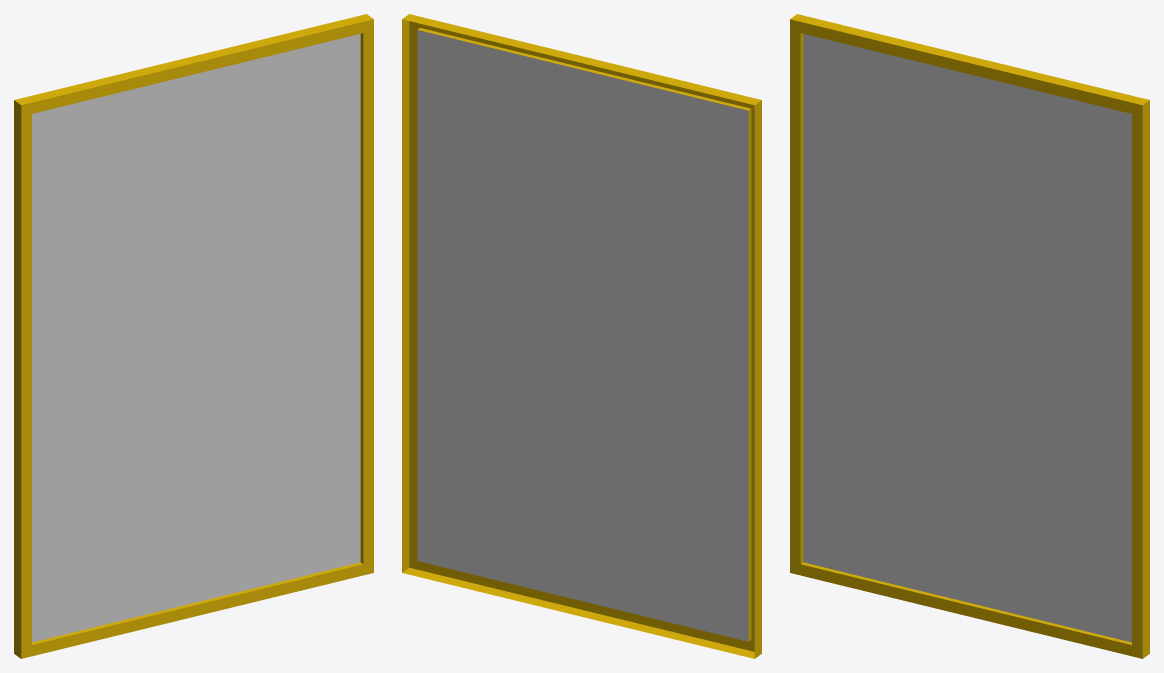
Rendered from Frame_portal.glb.
3 renders of one model, left to right at view 1: azimuth 30°, elevation 25°; view 2: azimuth 150°, elevation 25°; view 3: azimuth 330°, elevation 25°, orthographic.
Parts seen in each view (by area): view 1: Frame_portal; view 2: Frame_portal; view 3: Frame_portal.
Part boxes in pixels (x1,y1,x2,y2): Frame_portal: (14, 14, 373, 658); Frame_portal: (402, 14, 761, 658); Frame_portal: (790, 14, 1149, 658).
Bounding box in the file's own units: 2 × 3 × 0.0707.
